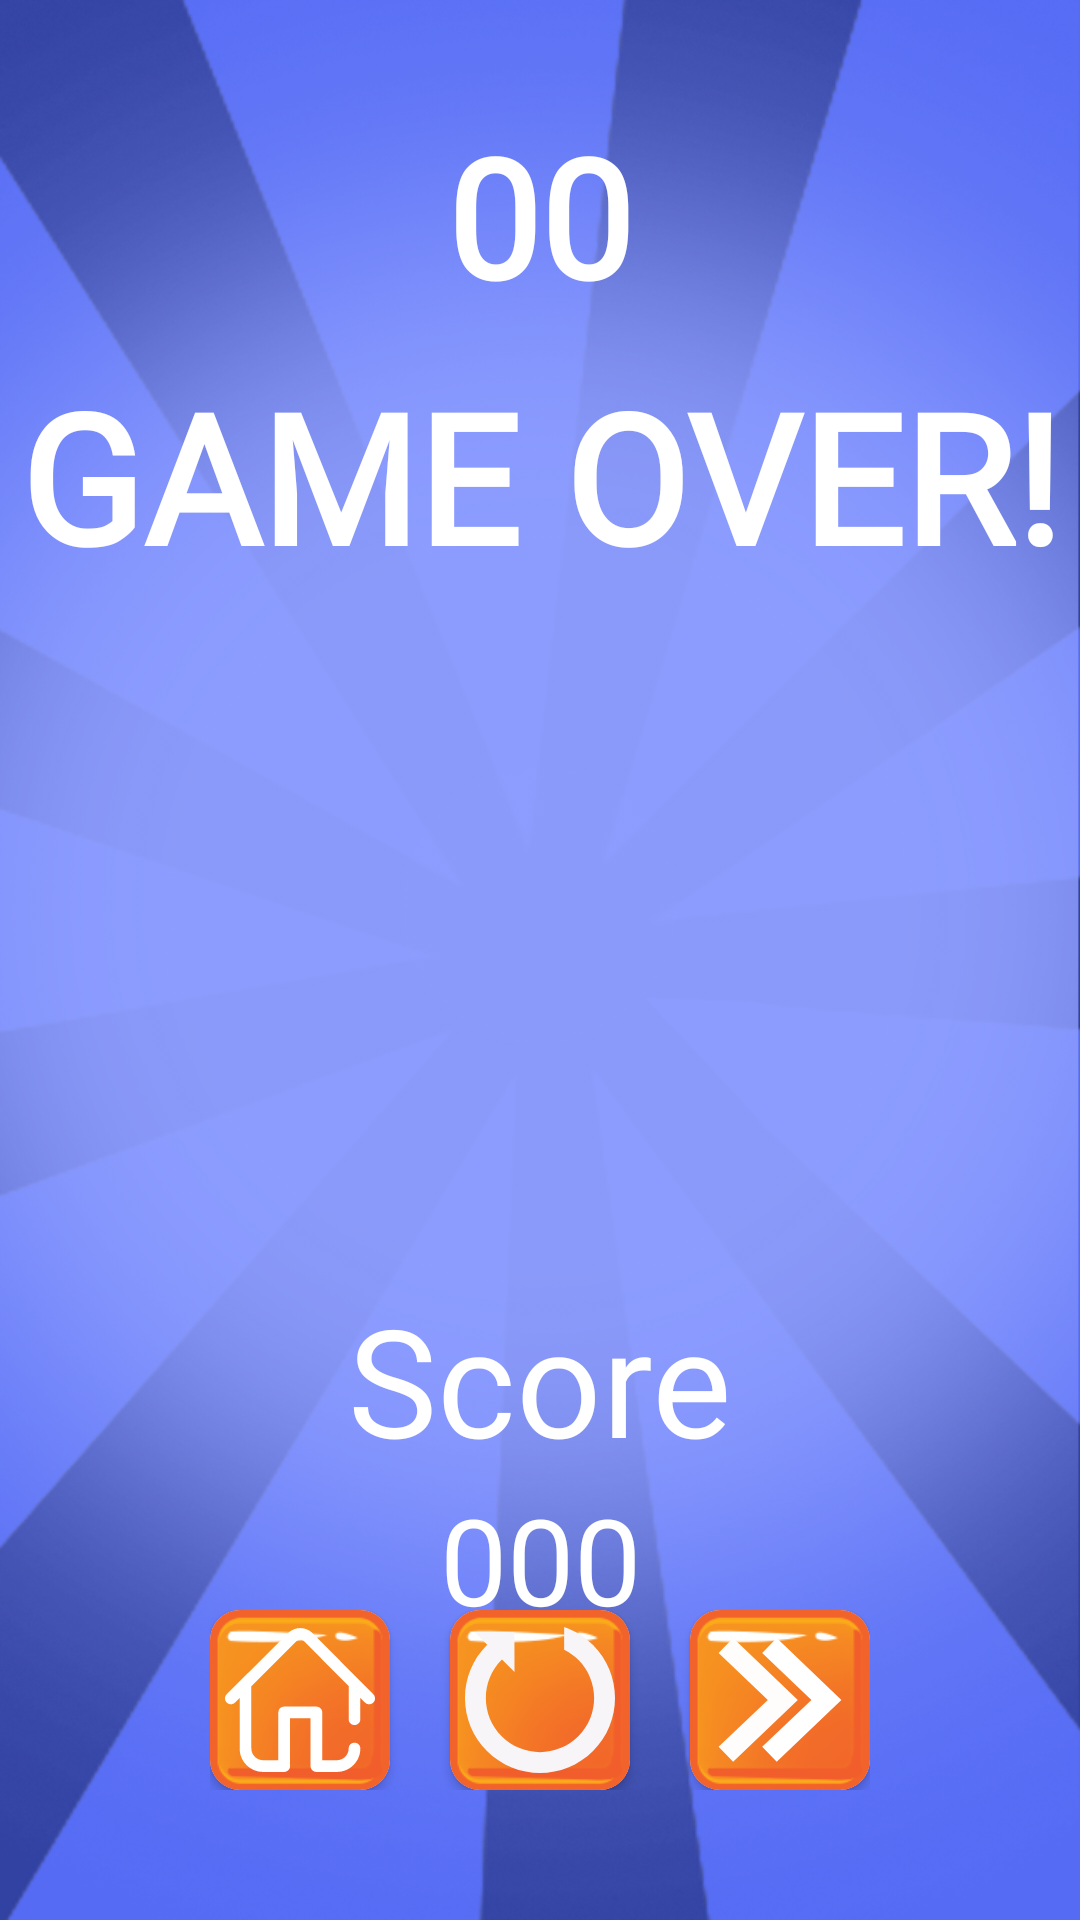

Named icons in this screenshot (1080×1920) and their centers, point (x, y):
home: point (300, 1700)
restart: point (540, 1700)
